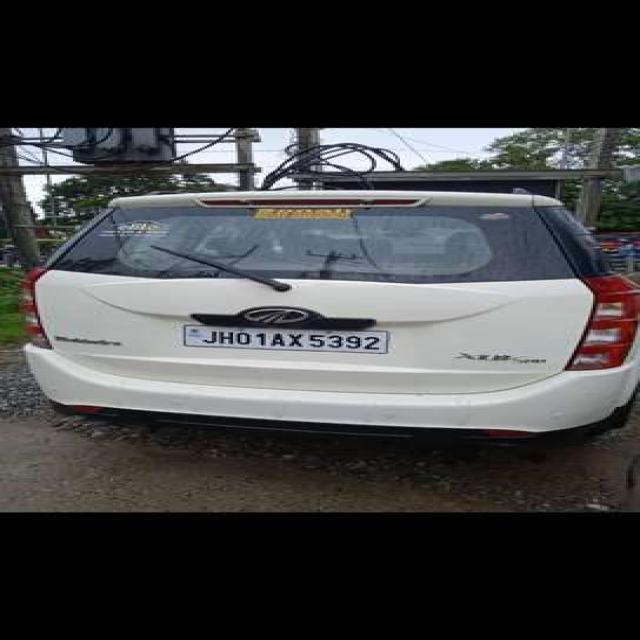licenseplate: (186, 324, 387, 353)
